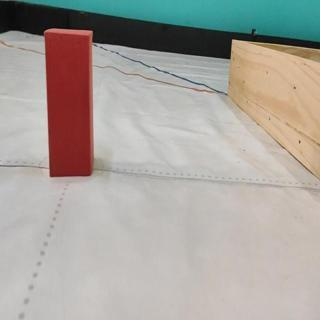redbox: (42, 27, 93, 177)
